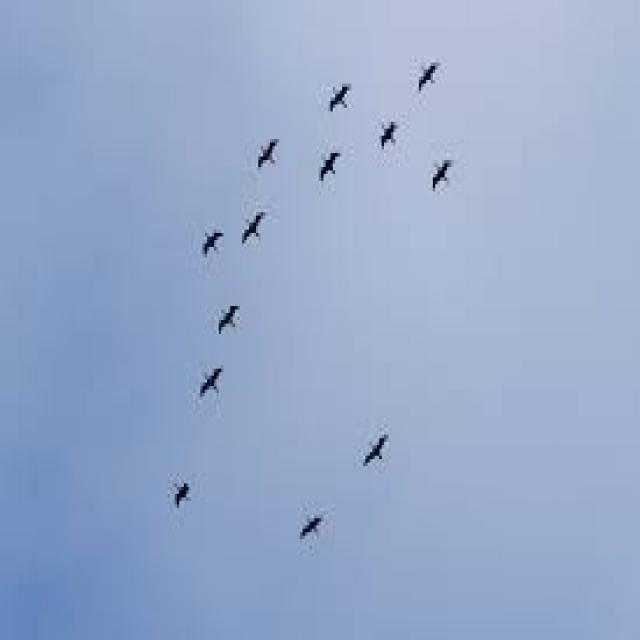bird: (313, 56, 362, 132), (238, 193, 280, 270), (409, 44, 452, 116), (194, 206, 234, 276), (431, 137, 464, 221), (244, 127, 288, 186), (208, 299, 252, 351), (310, 142, 350, 198), (356, 419, 393, 478), (196, 360, 230, 423), (164, 462, 197, 522), (374, 115, 408, 163), (294, 513, 330, 541)
